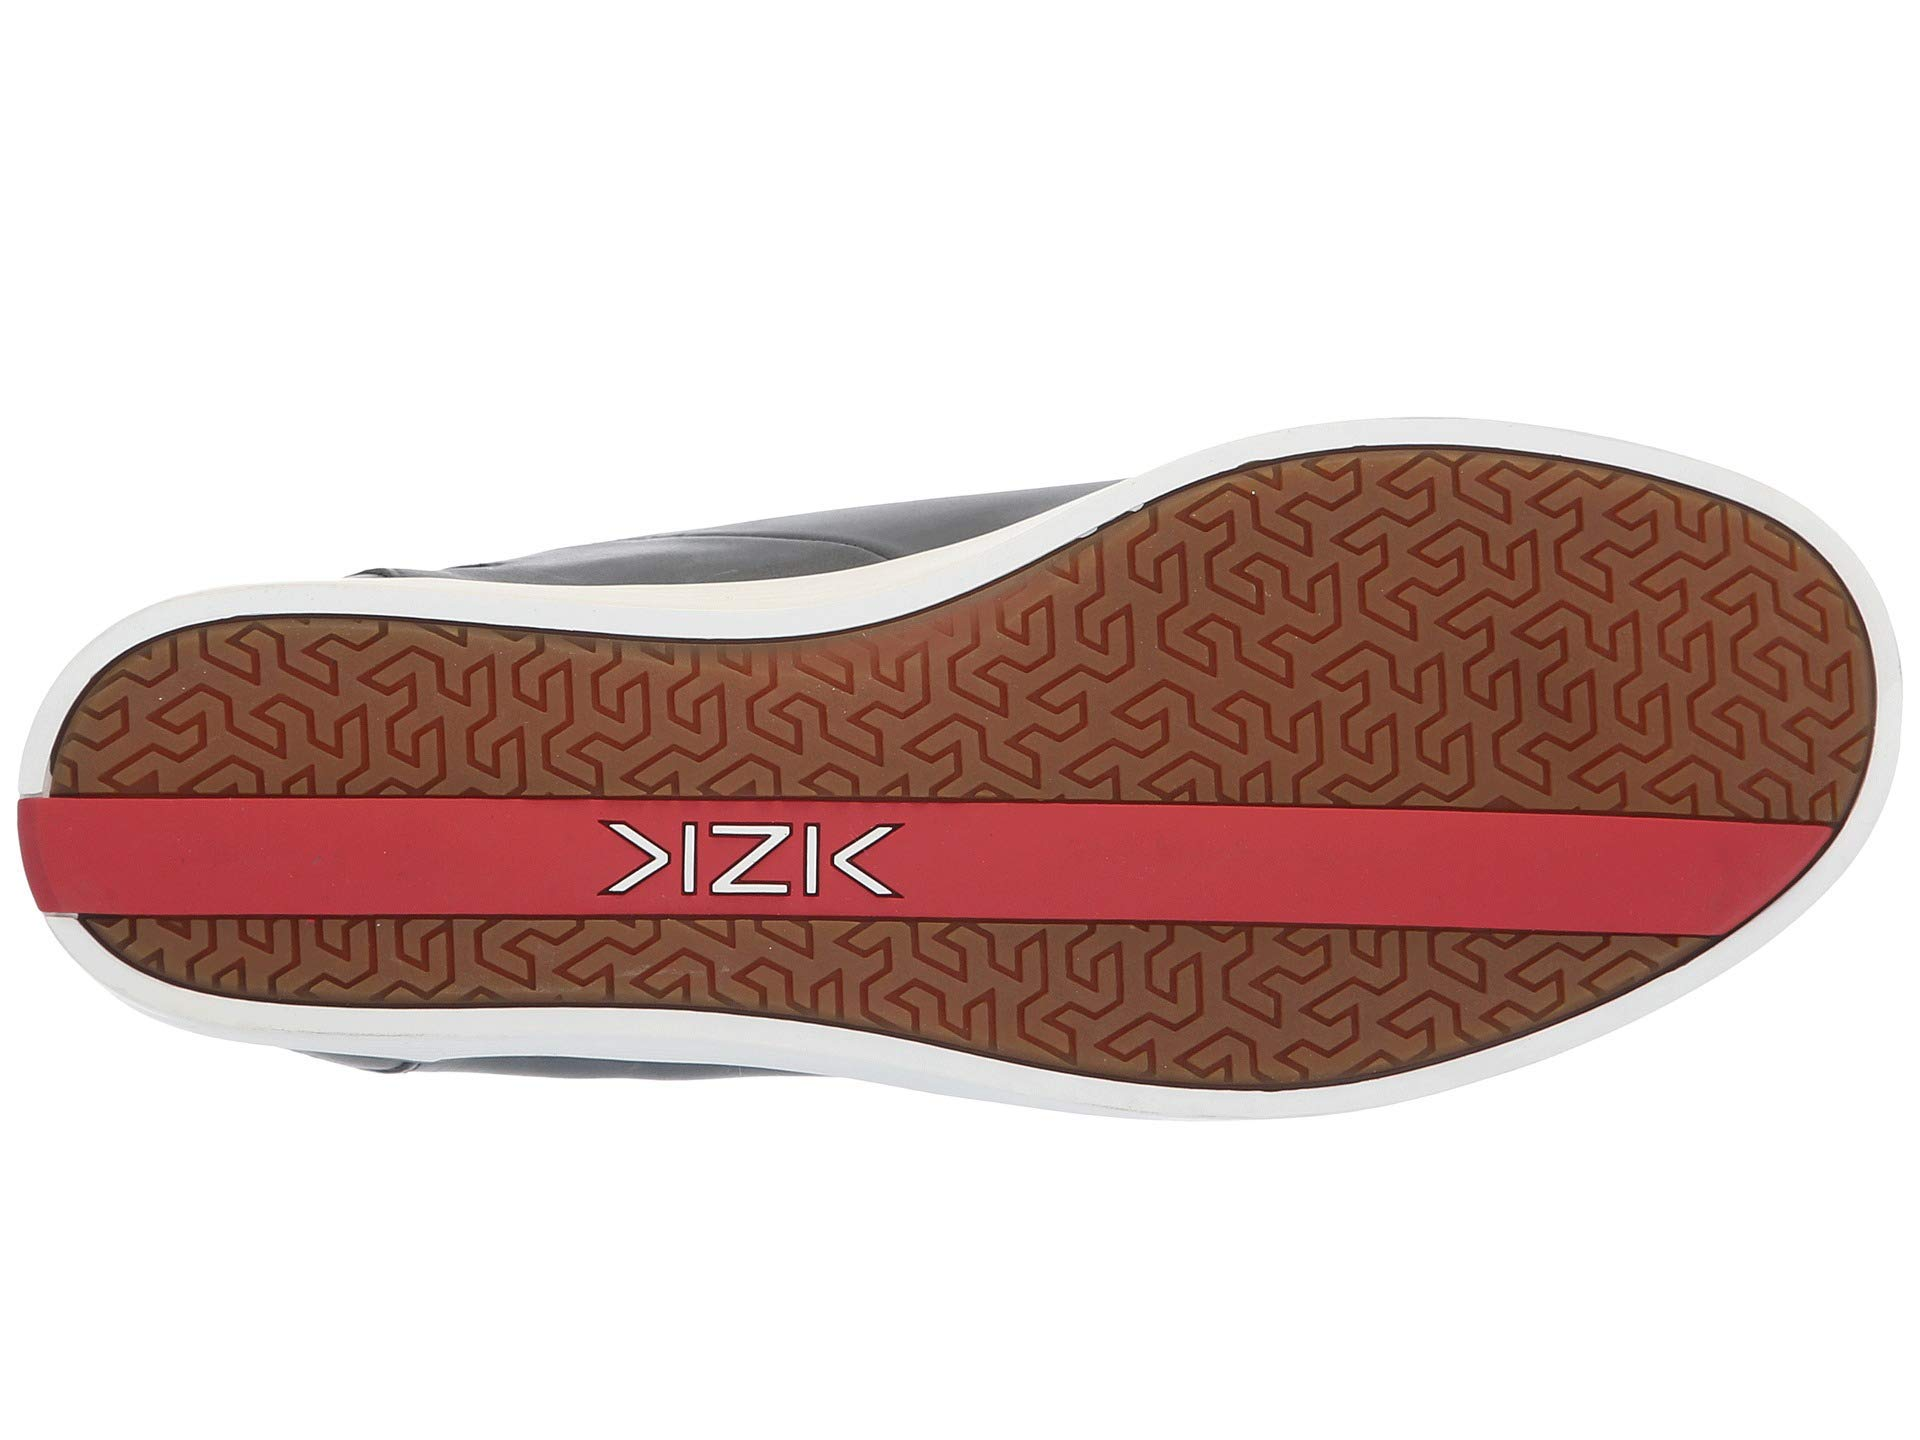line: (1052, 883, 1491, 1007), (564, 805, 937, 911)
other: (1173, 469, 1723, 787), (1052, 883, 1491, 1007)
text: (564, 805, 937, 911)
